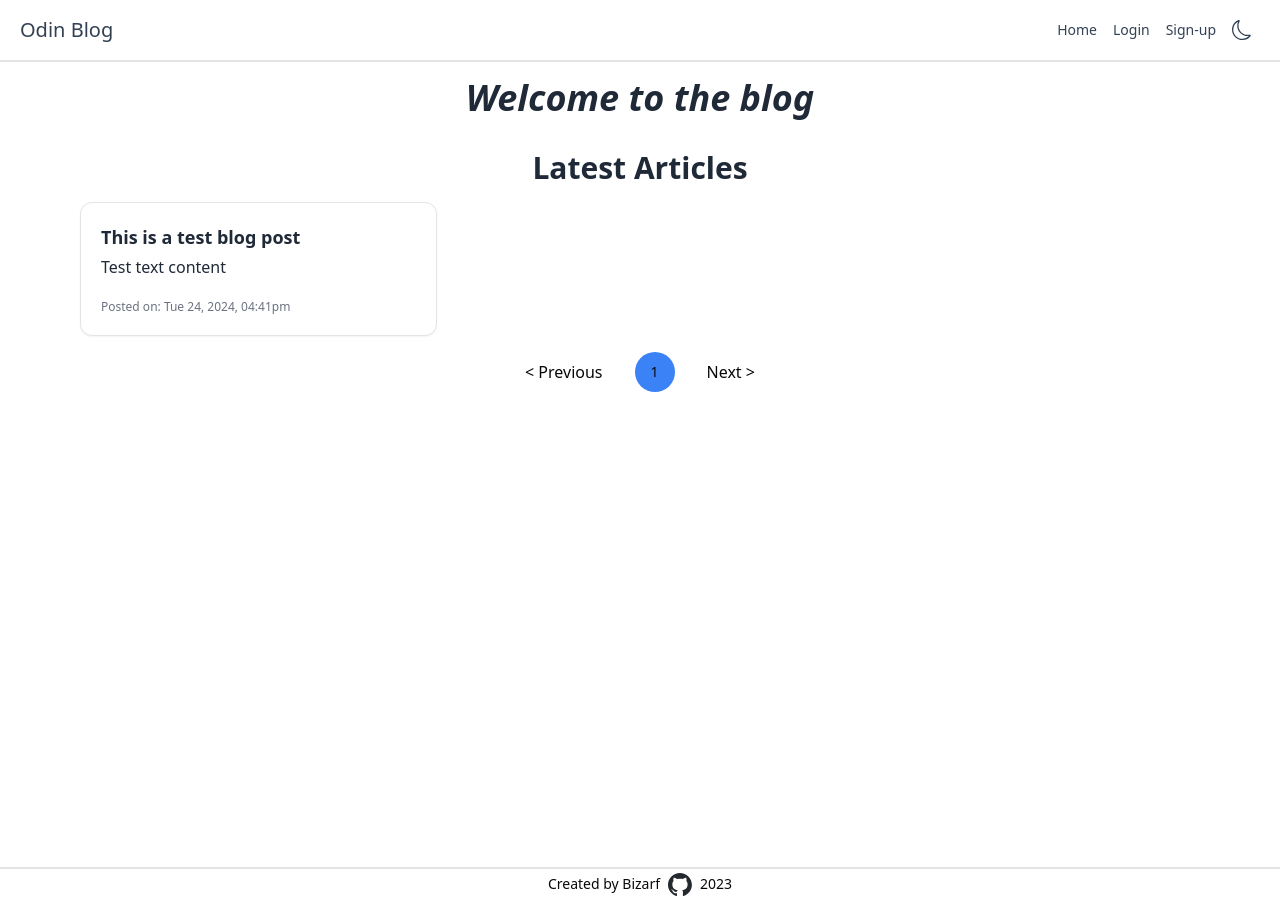
Test: post and comment tests › user clicks on a blog post entering the page, and sees the comments
Expected: the heading "Welcome to the blog" is shown, [466, 73, 814, 122]
Expected: the heading "Latest Articles" is shown, [532, 147, 748, 188]
Click the link "This is a test blog post" at (201, 237), box [101, 225, 300, 249]
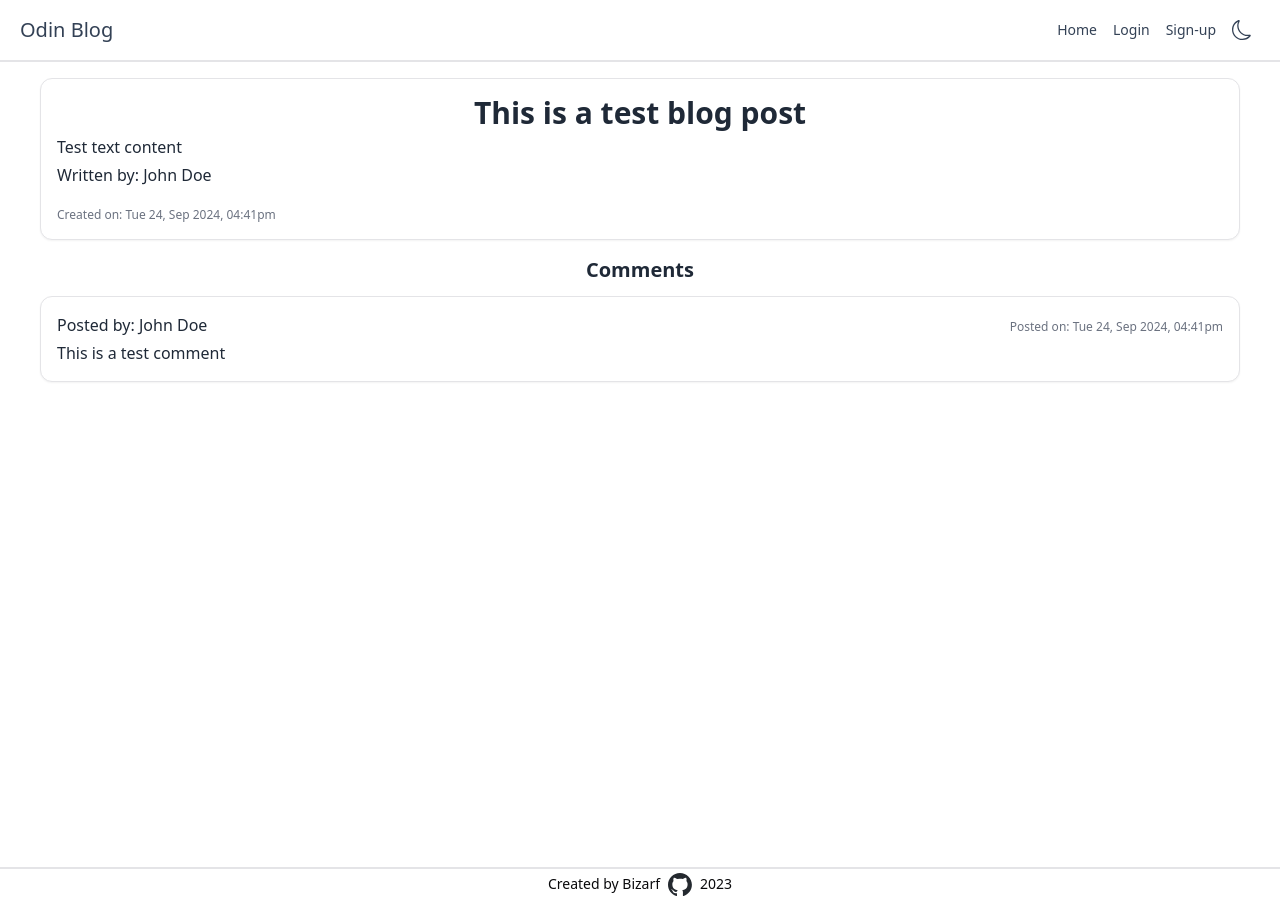
Expected: the heading "This is a test blog post" is shown, [474, 92, 806, 133]
Expected: the heading "Comments" is shown, [586, 256, 694, 283]
Expected: the text "This is a test comment" is shown, [57, 342, 225, 364]
